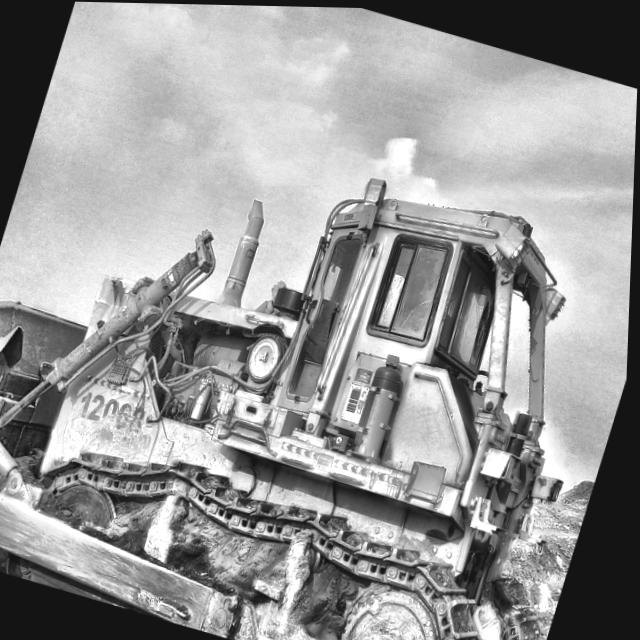buldozerpayloadergrader: (0, 177, 566, 640)
